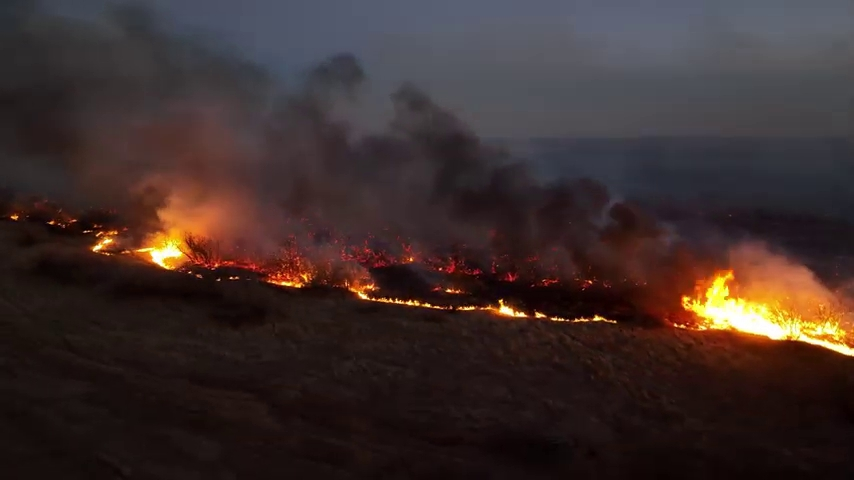forest_fire: (85, 227, 614, 321), (674, 270, 853, 354), (575, 278, 593, 288), (45, 221, 72, 227), (7, 213, 25, 219), (354, 269, 356, 270)
